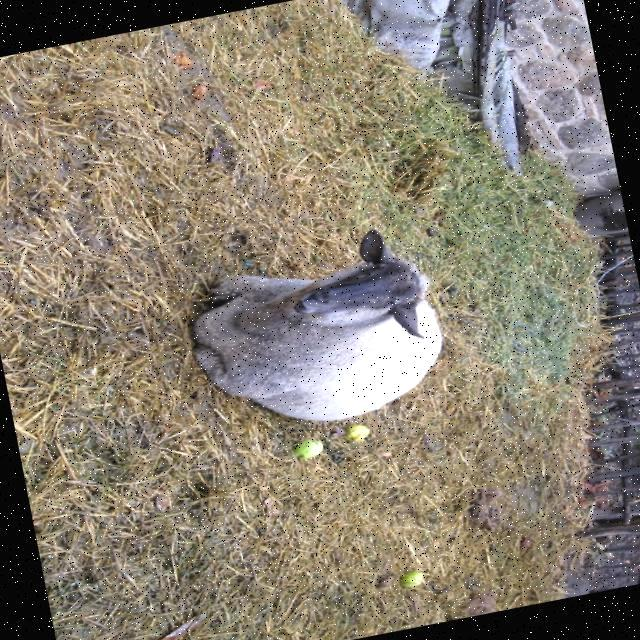sheep: (193, 231, 443, 420)
